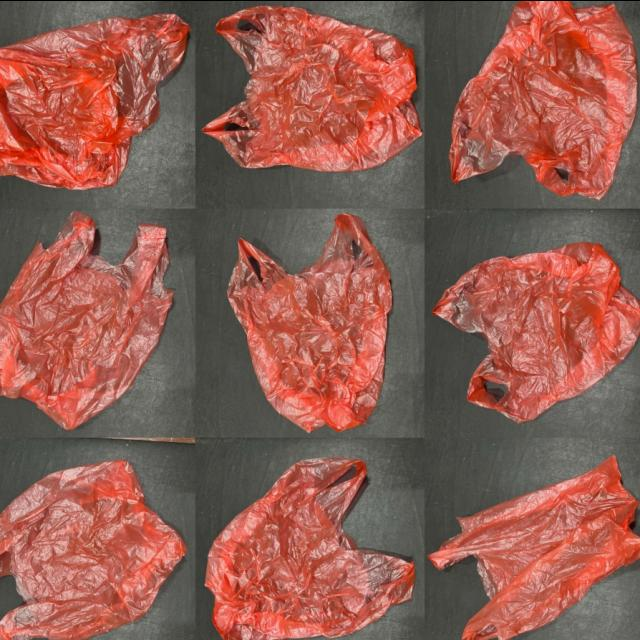plastik: (429, 455, 640, 640), (205, 456, 415, 640), (0, 211, 173, 428), (432, 242, 640, 421), (450, 0, 637, 199), (203, 5, 421, 170), (228, 213, 391, 431), (0, 459, 185, 640), (0, 13, 189, 189)
